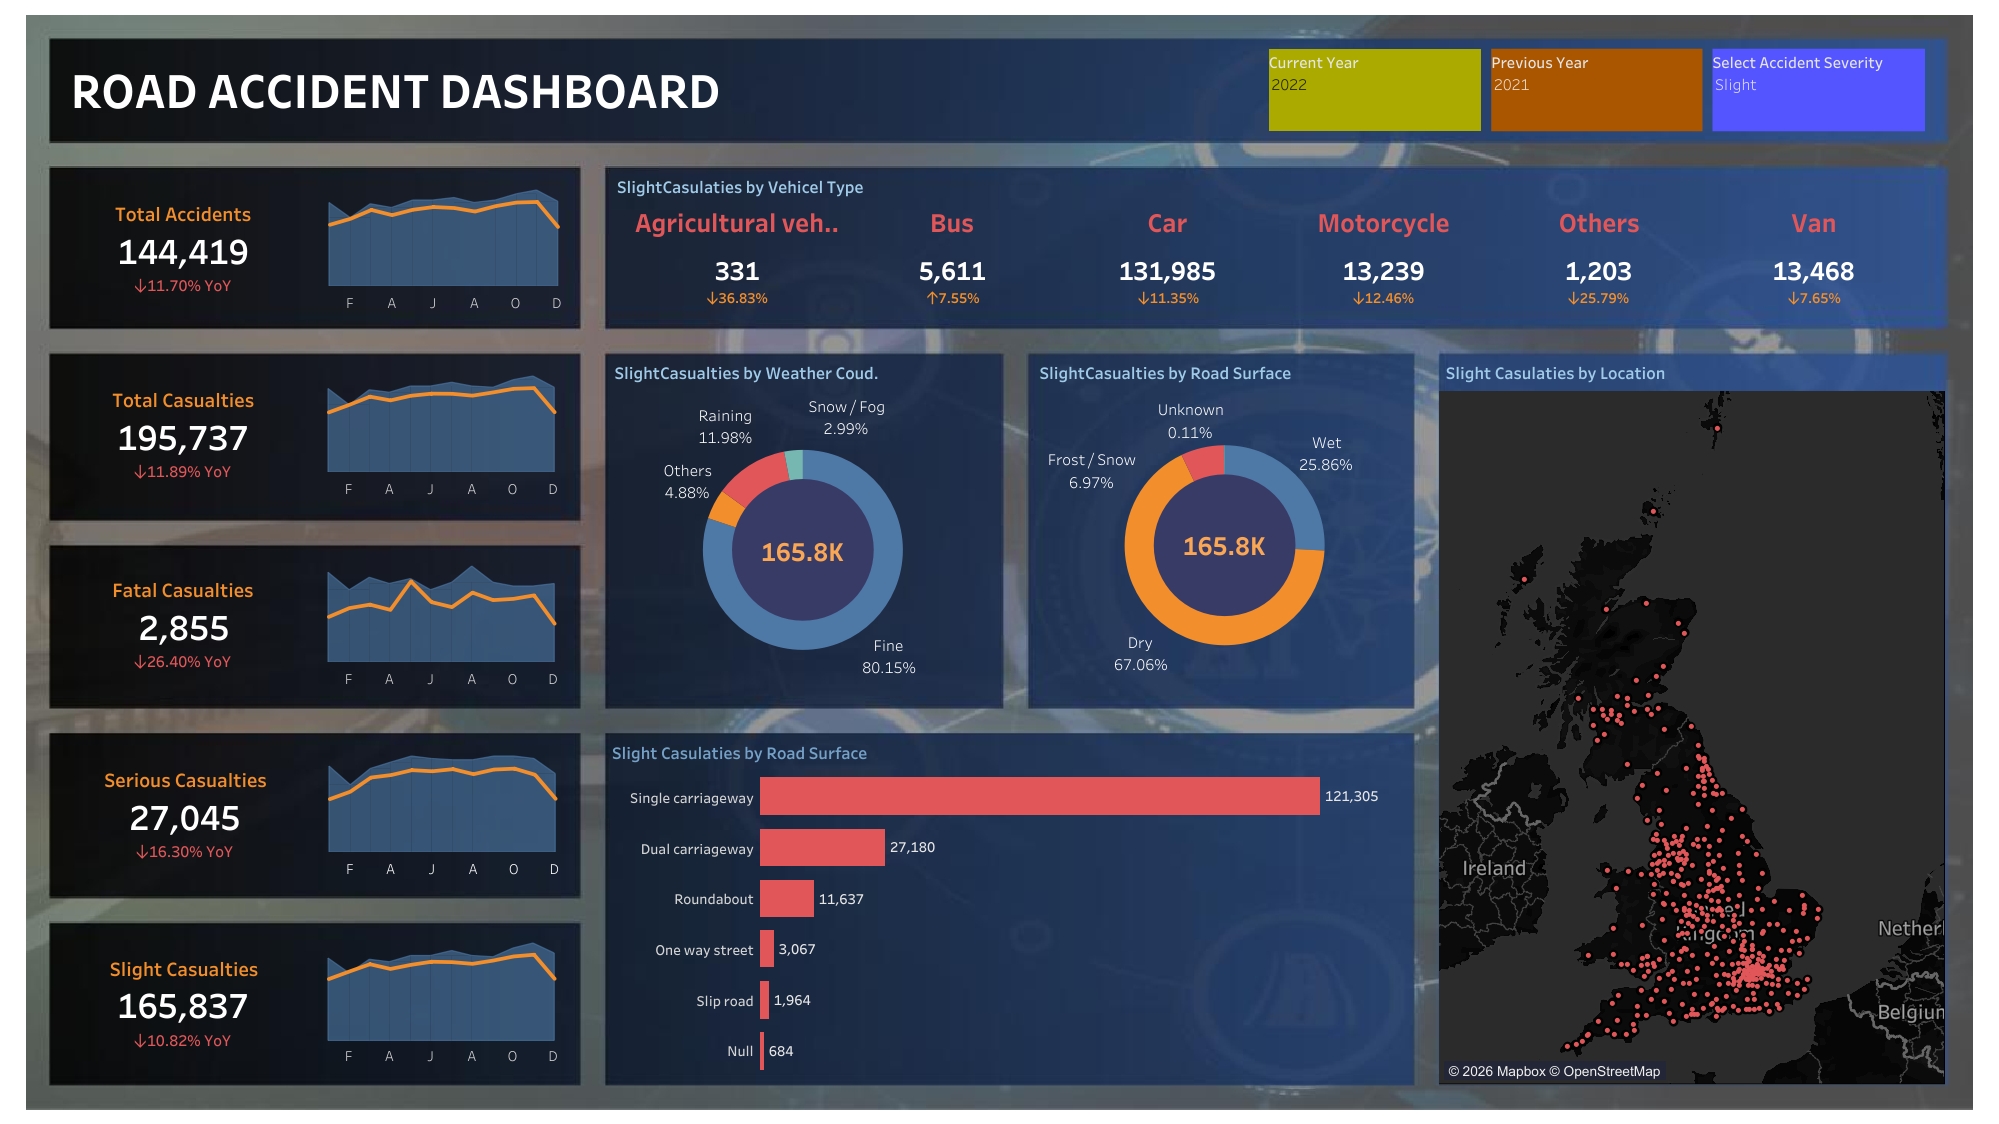

The page's visual inventory and layout, read from the dashboard file:
{"tool":"tableau","page":{"name":"Dashboard 1","canvas":[1600,900],"ordinal":0},"visuals":[{"type":"image","param":"Image/Background.pptx.jpg","box":[8,8,1584,884]},{"type":"text","box":[54,24,704,93]},{"type":"parameter","param":"[Parameters].[Parameter 1]","box":[1011,35,177.7,74]},{"type":"parameter","param":"[Parameters].[Current Year (copy)_1942177379027853315]","box":[1188.7,35,177.7,74]},{"type":"parameter","param":"[Parameters].[Parameter 2]","box":[1366.3,35,177.7,74]},{"type":"text","box":[491,133,462,30]},{"type":"worksheet","title":"Total Accidents","mark":"Automatic","box":[44,144,207,110]},{"type":"worksheet","title":"Accidents Sparkline","mark":"Automatic","rows":["CY Accidents (copy)_1942177379029590021","Calculation_1942177379028238340"],"cols":["Accident Date"],"box":[251,144,207,110]},{"type":"worksheet","title":"Vehicel Type Images","mark":"Text","box":[500,157,1042,38]},{"type":"worksheet","title":"Vehicel Type KPI","mark":"Automatic","box":[500,195,1042,62]},{"type":"text","box":[489,282,480,30]},{"type":"text","box":[829,282,325,30]},{"type":"text","box":[1154,282,388,30]},{"type":"worksheet","title":"Total Casualties","mark":"Automatic","box":[45,293,205,110]},{"type":"worksheet","title":"Total Casualties Sparkline ","mark":"Automatic","rows":["CY Casualties (copy)_1942177379037261832","Calculation_1942177379036647431"],"cols":["Accident Date"],"box":[250,293,205,110]},{"type":"worksheet","title":"Road Surface","mark":"Pie","rows":["Calculation_2159476064209870859","Calculation_2159476064209924109"],"box":[823,307,313,258]},{"type":"worksheet","title":"By Location","mark":"Automatic","rows":["Latitude"],"cols":["Longitude"],"box":[1151,313,404,554]},{"type":"worksheet","title":"Weather Cond","mark":"Pie","rows":["Calculation_2159476064209870859","Calculation_2159476064209924109"],"box":[485,314,315,251]},{"type":"worksheet","title":"Fatal Casualties ","mark":"Automatic","box":[45,445,205,110]},{"type":"worksheet","title":"Fatal Casualties Sparkline","mark":"Automatic","rows":["CY Fatal Casualties (copy)_2159476064172625921","Calculation_2159476064171094016"],"cols":["Accident Date"],"box":[250,445,205,110]},{"type":"text","box":[487,586,471,30]},{"type":"worksheet","title":"Serious Casualties ","mark":"Automatic","box":[46,597,205,110]},{"type":"worksheet","title":"Serious Casualties Sparkline ","mark":"Automatic","rows":["PY Fatal Casualties  (copy)_2159476064174858244","CY Fatal Casualties (copy)_2159476064173670403"],"cols":["Accident Date"],"box":[251,597,205,110]},{"type":"worksheet","title":"Road Type","mark":"Automatic","rows":["Road_Type"],"cols":["Calculation_1942177379036647431"],"box":[488,617,641,244]},{"type":"worksheet","title":"Slight Casualties ","mark":"Automatic","box":[45,746,205,111]},{"type":"worksheet","title":"Slight Casualties Sparkline ","mark":"Automatic","rows":["PY Serious Casualties   (copy)_2159476064175861768","CY Serious Casualties  (copy)_2159476064175661062"],"cols":["Accident Date"],"box":[250,746,205,111]}]}

Visuals, with their boxes in screenshot pixels (x1, y1, x2, y2), scaled from the page's 1600x900 canvas onto the 1999x1124 screenshot:
image: bbox(10, 10, 1989, 1114)
text: bbox(67, 30, 947, 146)
parameter: bbox(1263, 44, 1485, 136)
parameter: bbox(1485, 44, 1707, 136)
parameter: bbox(1707, 44, 1929, 136)
text: bbox(613, 166, 1191, 204)
"Total Accidents" worksheet: bbox(55, 180, 314, 317)
"Accidents Sparkline" worksheet: bbox(314, 180, 572, 317)
"Vehicel Type Images" worksheet (Text marks): bbox(625, 196, 1927, 244)
"Vehicel Type KPI" worksheet: bbox(625, 244, 1927, 321)
text: bbox(611, 352, 1211, 390)
text: bbox(1036, 352, 1442, 390)
text: bbox(1442, 352, 1927, 390)
"Total Casualties" worksheet: bbox(56, 366, 312, 503)
"Total Casualties Sparkline " worksheet: bbox(312, 366, 568, 503)
"Road Surface" worksheet (Pie marks): bbox(1028, 383, 1419, 706)
"By Location" worksheet: bbox(1438, 391, 1943, 1083)
"Weather Cond" worksheet (Pie marks): bbox(606, 392, 999, 706)
"Fatal Casualties " worksheet: bbox(56, 556, 312, 693)
"Fatal Casualties Sparkline" worksheet: bbox(312, 556, 568, 693)
text: bbox(608, 732, 1197, 769)
"Serious Casualties " worksheet: bbox(57, 746, 314, 883)
"Serious Casualties Sparkline " worksheet: bbox(314, 746, 570, 883)
"Road Type" worksheet: bbox(610, 771, 1411, 1075)
"Slight Casualties " worksheet: bbox(56, 932, 312, 1070)
"Slight Casualties Sparkline " worksheet: bbox(312, 932, 568, 1070)
